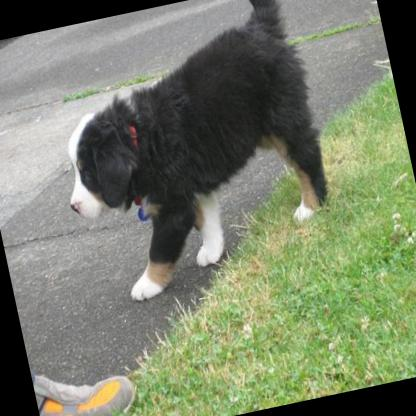Bernese_mountain_dog: (33, 0, 344, 309)
